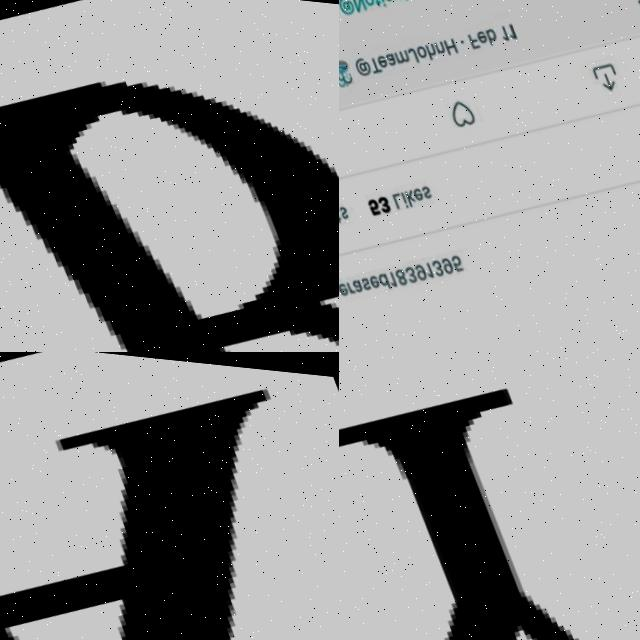1: (501, 13, 514, 31), (417, 252, 429, 271), (380, 264, 393, 281), (495, 15, 508, 32)
3: (371, 188, 387, 208), (398, 257, 413, 277), (425, 251, 439, 269)
5: (362, 189, 377, 210), (444, 245, 458, 265)
8: (388, 260, 403, 279)
9: (406, 254, 422, 275), (433, 248, 448, 267)
A: (0, 352, 339, 640)
B: (0, 71, 339, 352)
Y: (339, 352, 640, 640)
